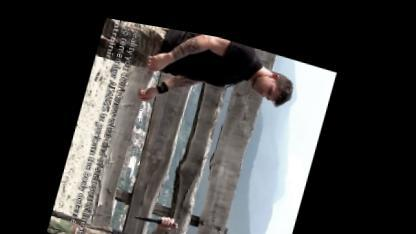knife: (136, 198, 188, 226)
